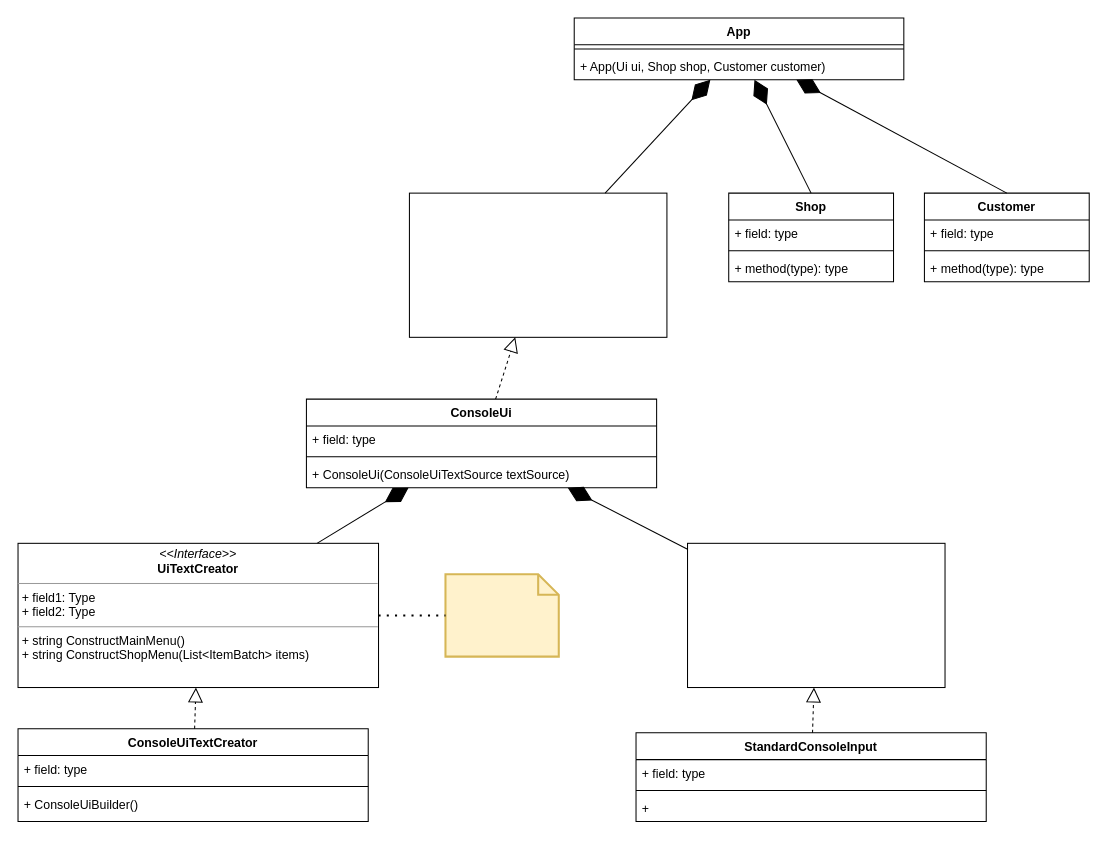
Image size: 1107x843. Some labels were removed from this diagram. Here are the shapes that lost their labels. From the top down, the centre of each, then its label:
At [537,264]: "<<Interface>> Ui + string MainMenu() + string ShopMenu(List<ItemBatch> items)".
At [501,615]: "Constructs strings that the ConsoleUi uses to write to the console".
At [815,615]: "<<Interface>> ConsoleInput + string ReadLine()".
